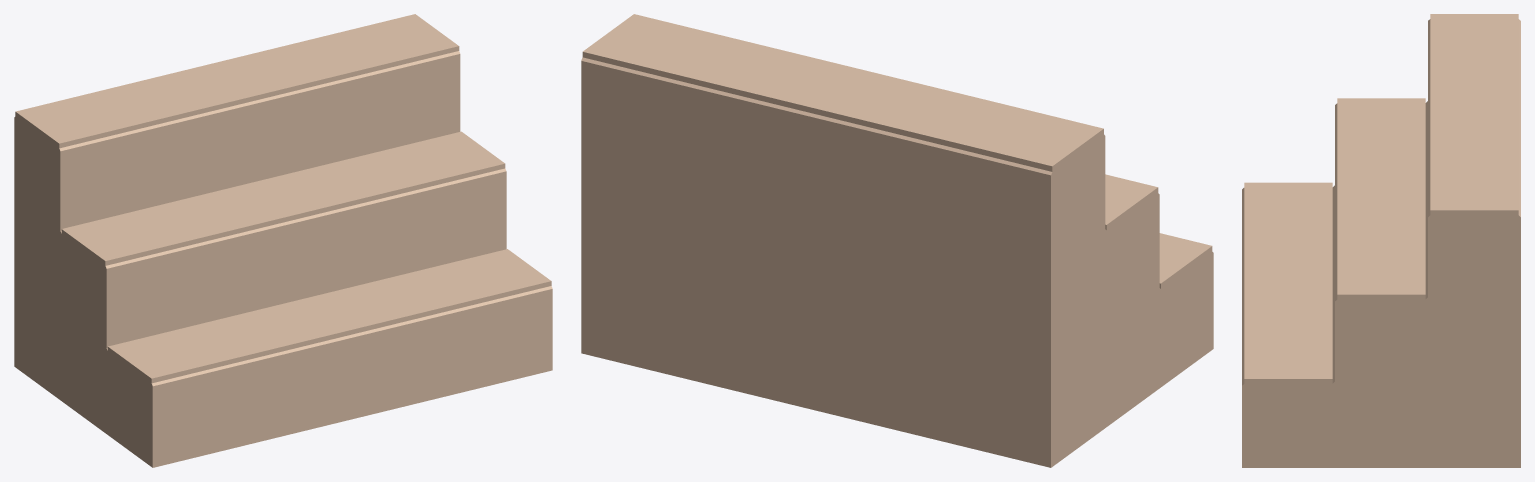
File: Stairs_5_3_3_Colored.fbx
3 renders of one model, left to right at view 1: azimuth 30°, elevation 25°; view 2: azimuth 150°, elevation 25°; view 3: azimuth 270°, elevation 25°, orthographic. The views are drawn at different scales.
Parts seen in each view (by area): view 1: Stairs_5_3_3; view 2: Stairs_5_3_3; view 3: Stairs_5_3_3.
Part boxes in pixels (x1,y1,x2,y2): Stairs_5_3_3: (14, 14, 552, 467); Stairs_5_3_3: (581, 14, 1213, 467); Stairs_5_3_3: (1242, 14, 1520, 467).
Size of the model in its own units: 500 by 306 by 300.
